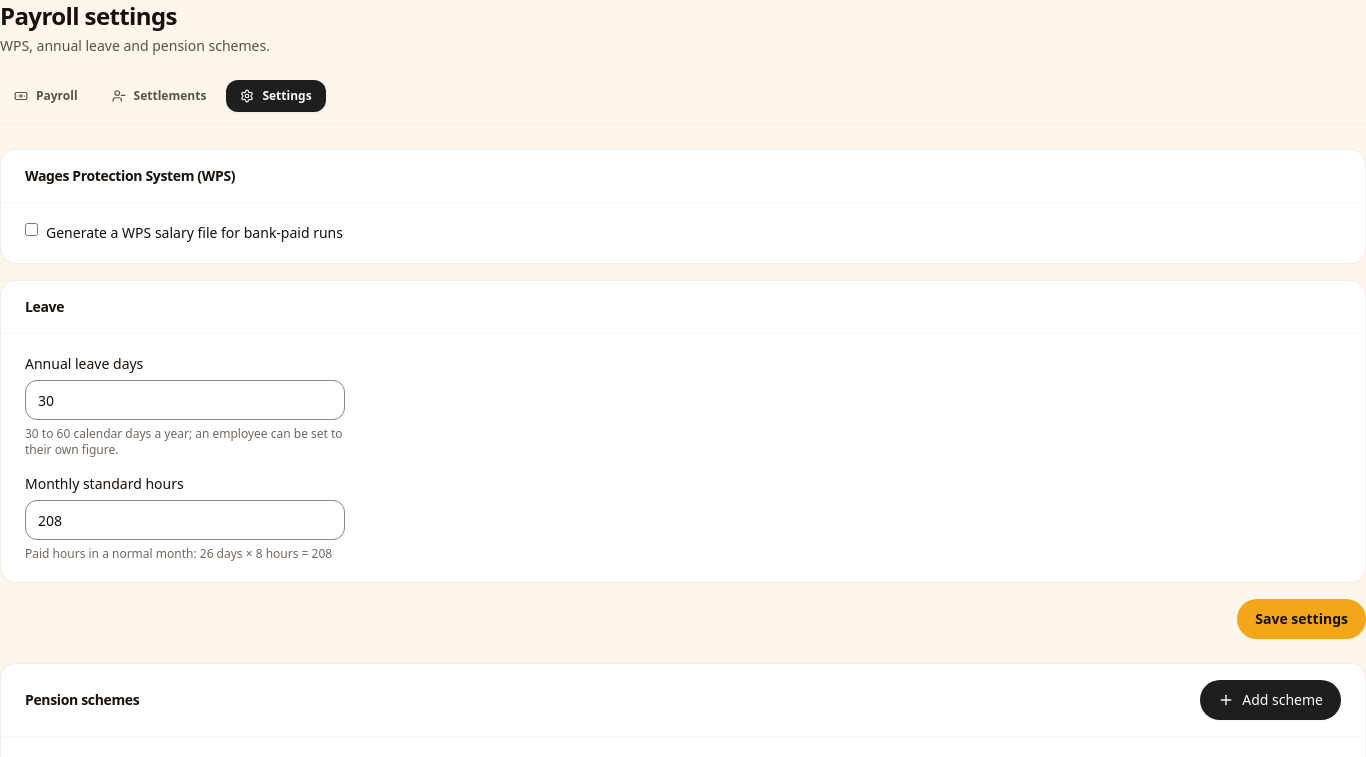
Test: PayrollSettingsView › hides the WPS fields while WPS is off and shows them when it is ticked
The width and height of the screenshot is (1366, 757).
Click the checkbox labelled "Generate a WPS salary file for bank-paid runs" at (32, 230), box [25,223,38,236]
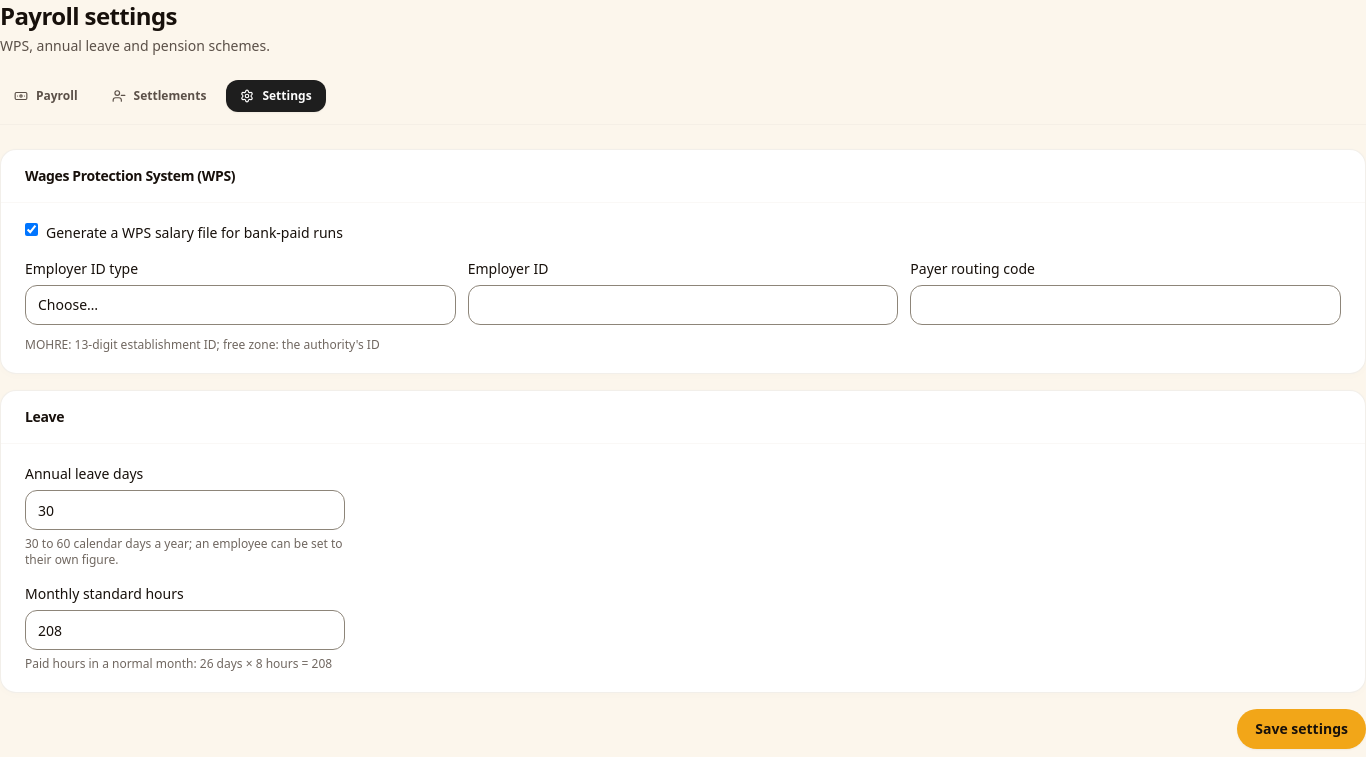
Now the element with test id "wps-fields" is shown, box [25,259,1341,353]
Now the text "13-digit establishment ID" is shown, box [25,336,380,353]
